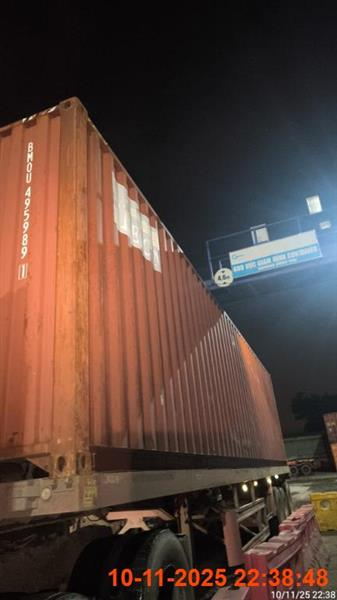hole: (0, 97, 329, 599)
